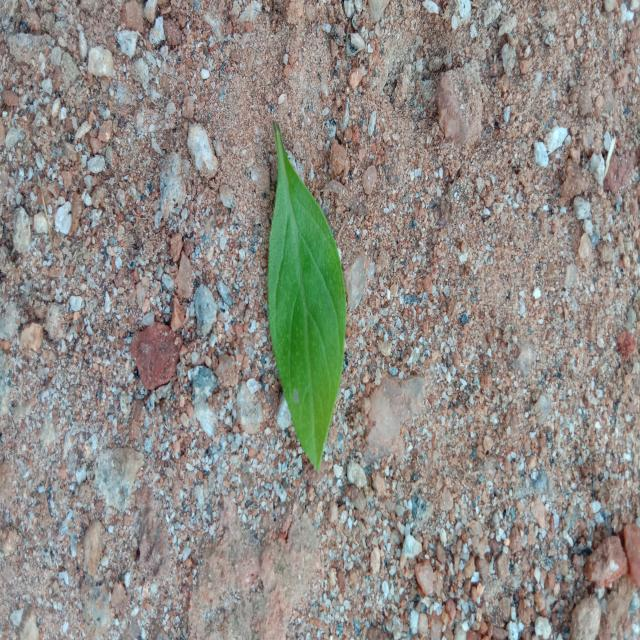kamakasturi: (268, 122, 346, 471)
